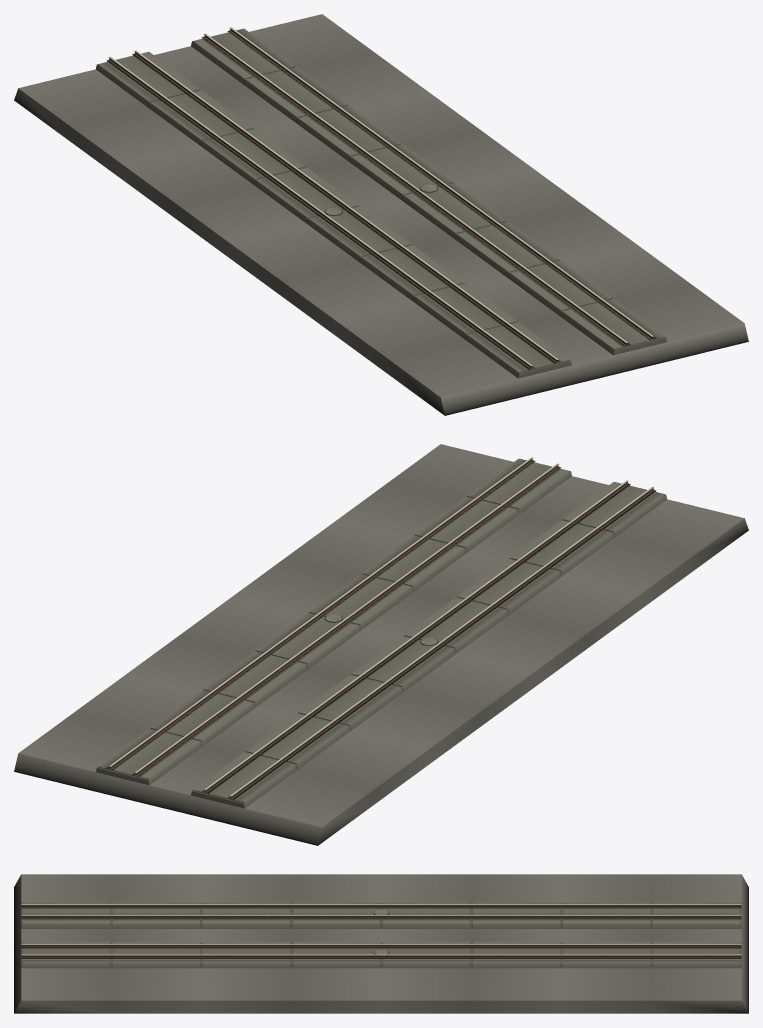
The model's file is MEI_2RAIL_KONKURI100.glb.
The picture shows the model from 3 angles, top to bottom: view 1: azimuth 30°, elevation 25°; view 2: azimuth 150°, elevation 25°; view 3: azimuth 270°, elevation 25°; orthographic projection. The views are drawn at different scales.
Parts seen in each view (by area): view 1: obj; view 2: obj; view 3: obj.
Part boxes in pixels (<box>): obj: <box>14,14,748,415</box>; obj: <box>14,444,748,845</box>; obj: <box>14,874,748,1013</box>.
Size of the model in its own units: 41.53 by 3.19 by 102.
5 materials, 4 textured.
